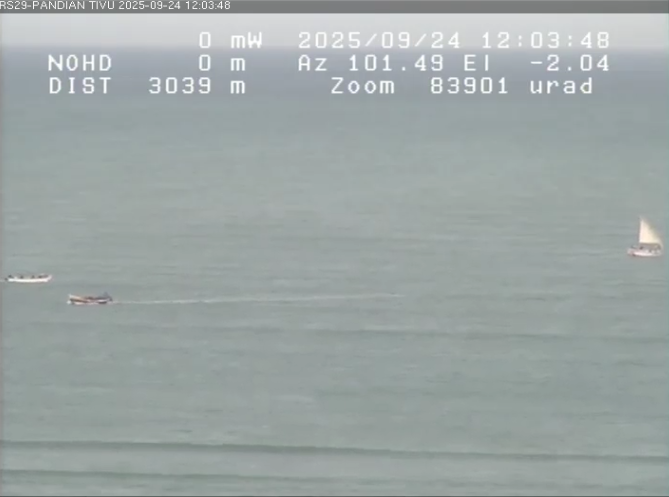FISHING_BOAT: (58, 284, 125, 316), (5, 260, 70, 288)
SAIL_BOAT: (605, 213, 669, 269)
